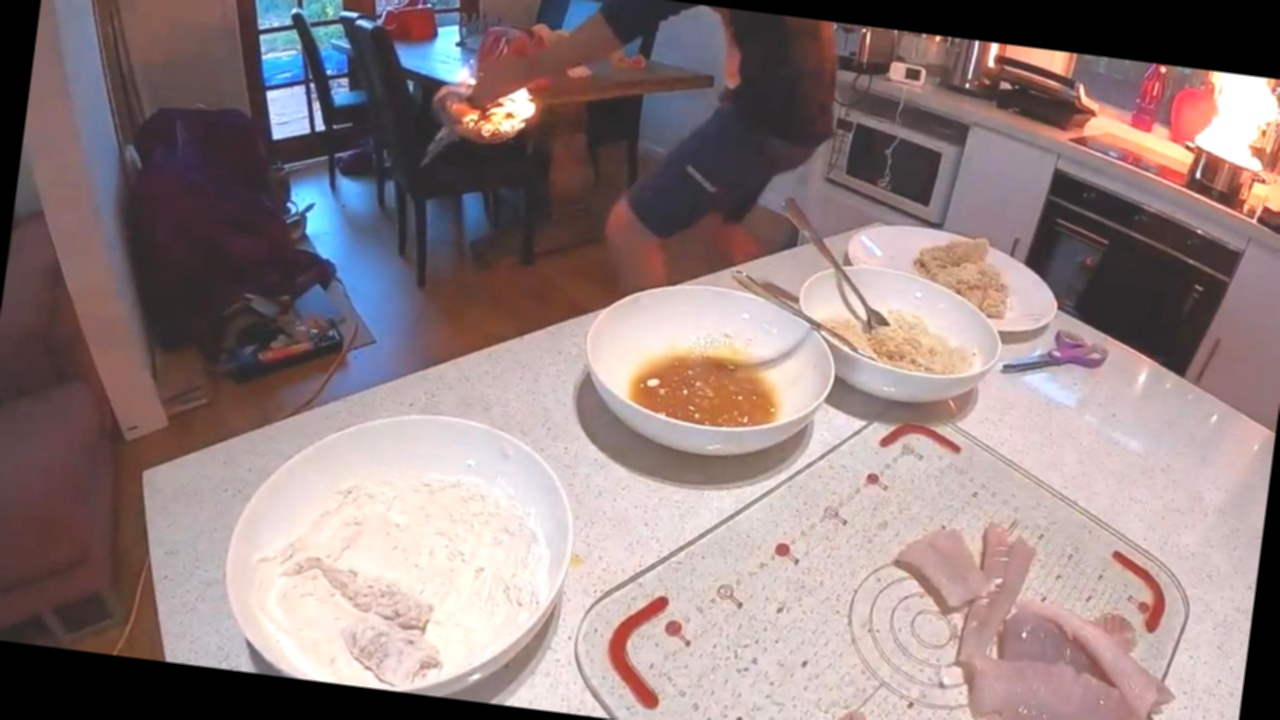fire: (1163, 67, 1280, 217)
